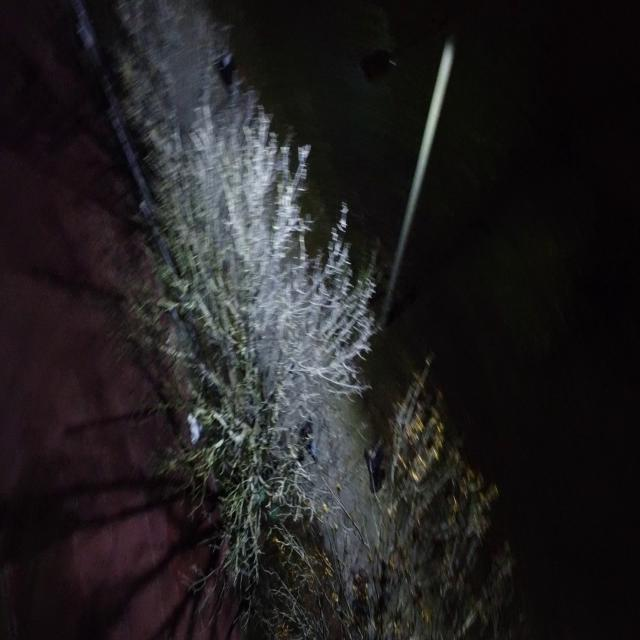vehicle: (290, 416, 319, 467), (363, 433, 386, 493)
